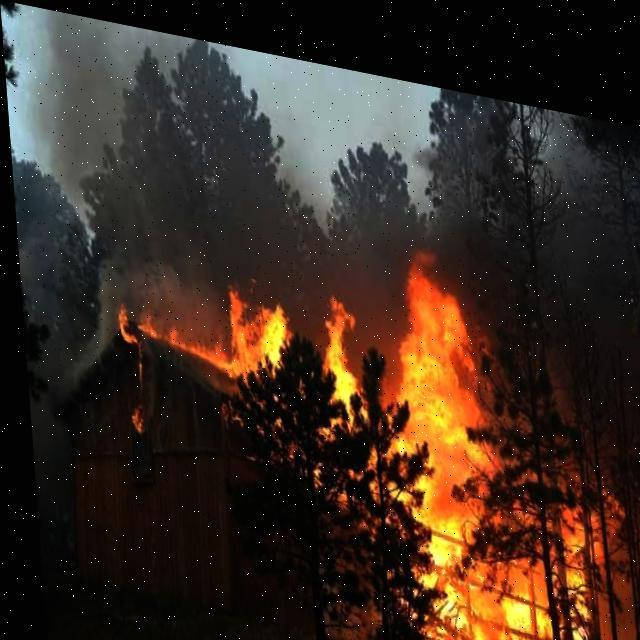Fire: (88, 153, 637, 639)
